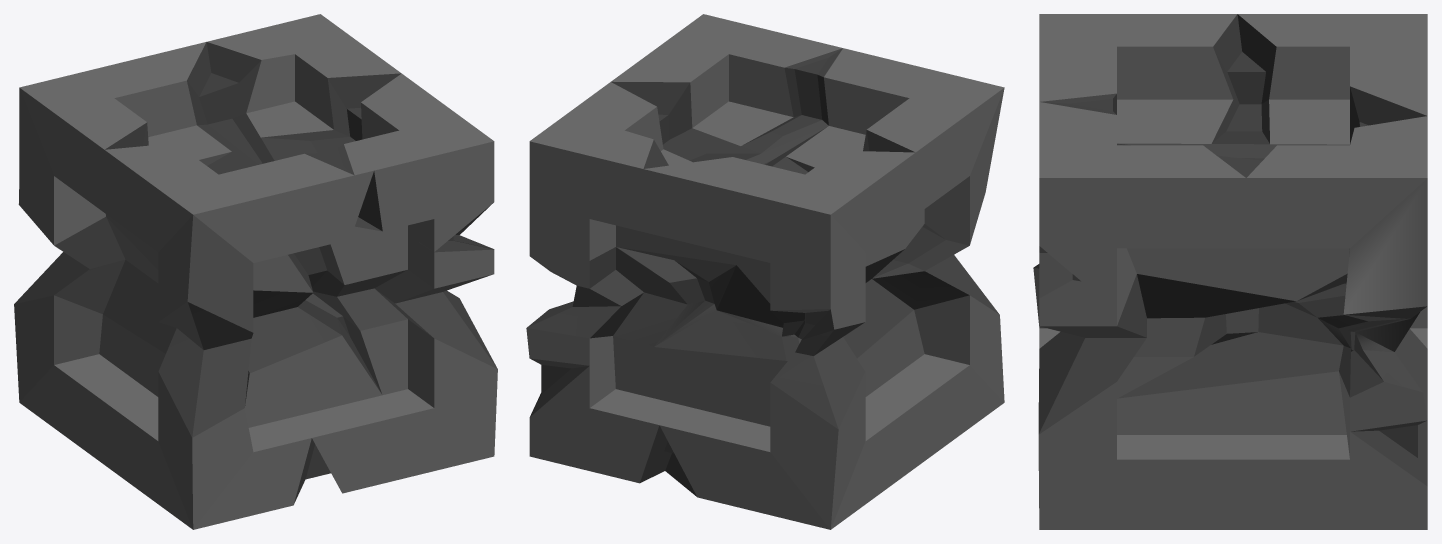
The model's file is stone1liveZup.fbx.
The picture shows the model from 3 angles, left to right: view 1: azimuth 30°, elevation 25°; view 2: azimuth 150°, elevation 25°; view 3: azimuth 270°, elevation 25°; orthographic projection. The views are drawn at different scales.
Parts seen in each view (by area): view 1: Stone1Live; view 2: Stone1Live; view 3: Stone1Live.
Part boxes in pixels (x1,y1,x2,y2): Stone1Live: (14,14,497,529); Stone1Live: (526,14,1004,529); Stone1Live: (1033,14,1427,529).
Size of the model in its own units: 203 by 208 by 200.
